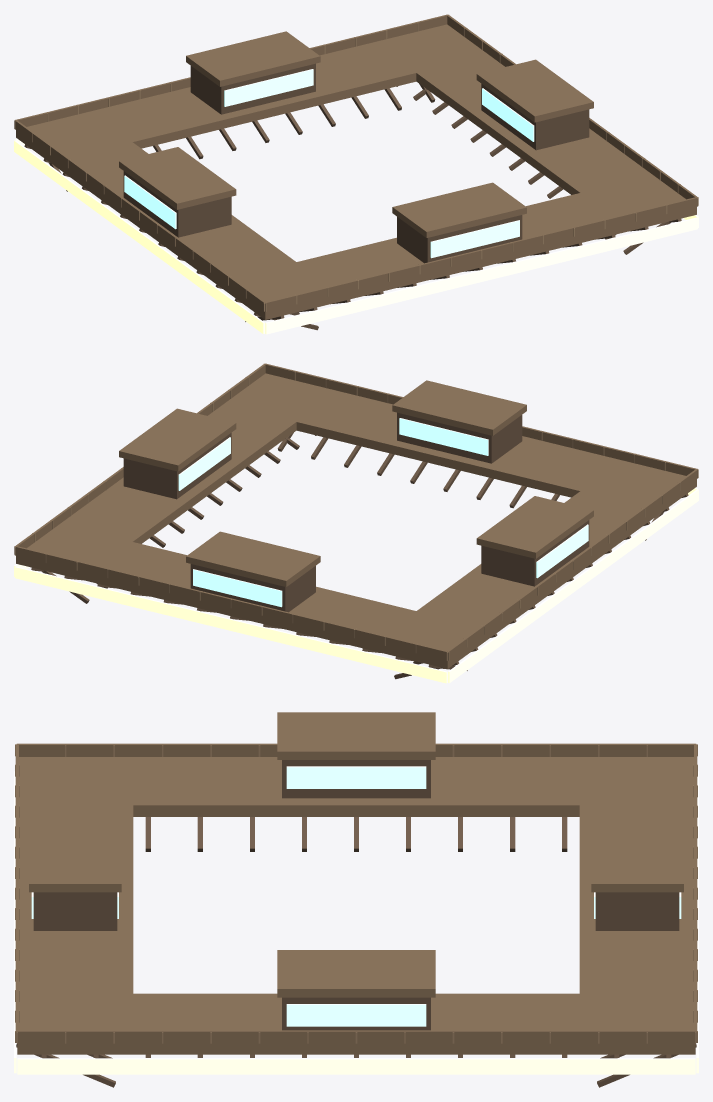
Rendered from 04_first_floor.glb.
3 views of the same model, one above another, from view 1: azimuth 30°, elevation 25°; view 2: azimuth 150°, elevation 25°; view 3: azimuth 270°, elevation 25° (orthographic). The views are drawn at different scales.
Visible parts, largest first — view 1: first_floor_iron, first_floor_irondark, first_floor_lamp_nocol, first_floor_glass_nocol, first_floor_ironlight_nocol; view 2: first_floor_iron, first_floor_irondark, first_floor_lamp_nocol, first_floor_glass_nocol, first_floor_ironlight_nocol; view 3: first_floor_iron, first_floor_irondark, first_floor_lamp_nocol, first_floor_glass_nocol, first_floor_ironlight_nocol.
Boxes of the visible parts, x1,y1,x2,y2 form: first_floor_iron: (15, 14, 697, 319); first_floor_irondark: (24, 63, 681, 330); first_floor_lamp_nocol: (14, 138, 698, 334); first_floor_glass_nocol: (124, 69, 534, 258); first_floor_ironlight_nocol: (14, 14, 698, 311); first_floor_iron: (15, 363, 697, 668); first_floor_irondark: (31, 412, 688, 679); first_floor_lamp_nocol: (14, 487, 698, 683); first_floor_glass_nocol: (178, 418, 588, 607); first_floor_ironlight_nocol: (14, 363, 698, 660); first_floor_iron: (15, 712, 697, 1054); first_floor_irondark: (16, 760, 696, 1087); first_floor_lamp_nocol: (14, 771, 698, 1074); first_floor_glass_nocol: (31, 766, 681, 1026); first_floor_ironlight_nocol: (15, 744, 697, 1043).
Bounding box in the file's own units: 73.7 × 12.35 × 73.7.
